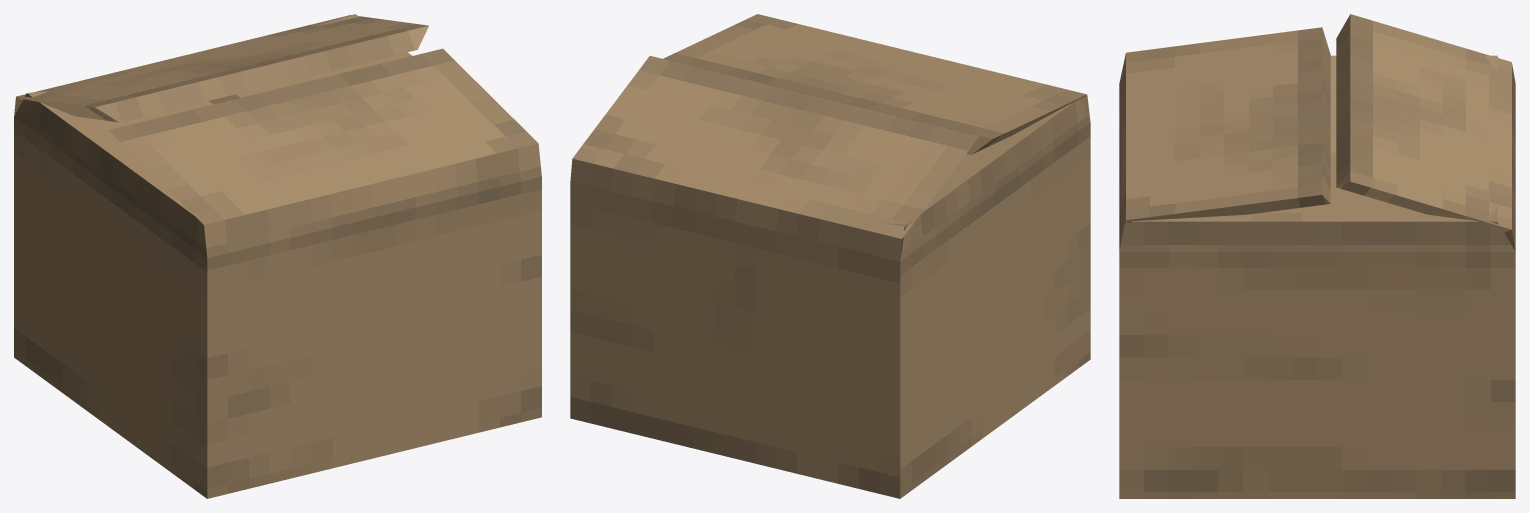
The model's file is cardboardbox.gltf.
The picture shows the model from 3 angles, left to right: view 1: azimuth 30°, elevation 25°; view 2: azimuth 150°, elevation 25°; view 3: azimuth 270°, elevation 25°; orthographic projection. The views are drawn at different scales.
Parts seen in each view (by area): view 1: mesh; view 2: mesh; view 3: mesh.
Part boxes in pixels (left/top/right/bottom): mesh: left=14, top=14, right=541, bottom=498; mesh: left=570, top=14, right=1090, bottom=498; mesh: left=1119, top=14, right=1515, bottom=498.
Size of the model in its own units: 1 by 0.8831 by 1.
Materials: 1 (1 with a texture image).
